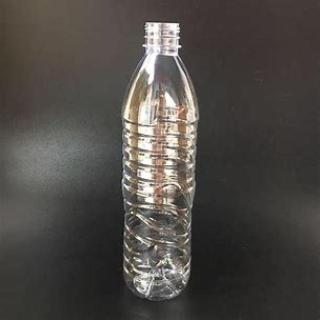Plastic-bottle: (116, 21, 205, 309)
